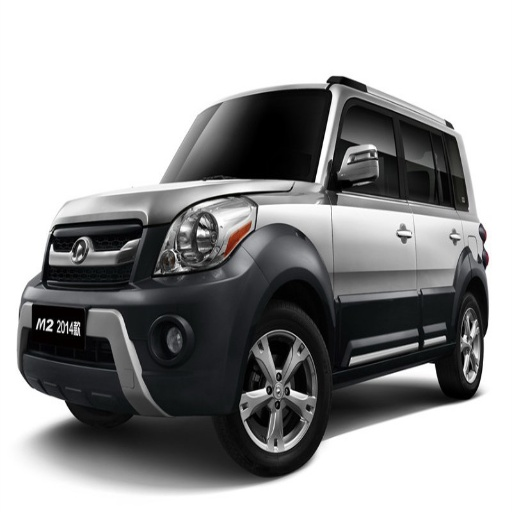front_bumper: (19, 206, 261, 421)
front_glass: (168, 92, 331, 178)
front_left_door: (327, 97, 420, 354)
